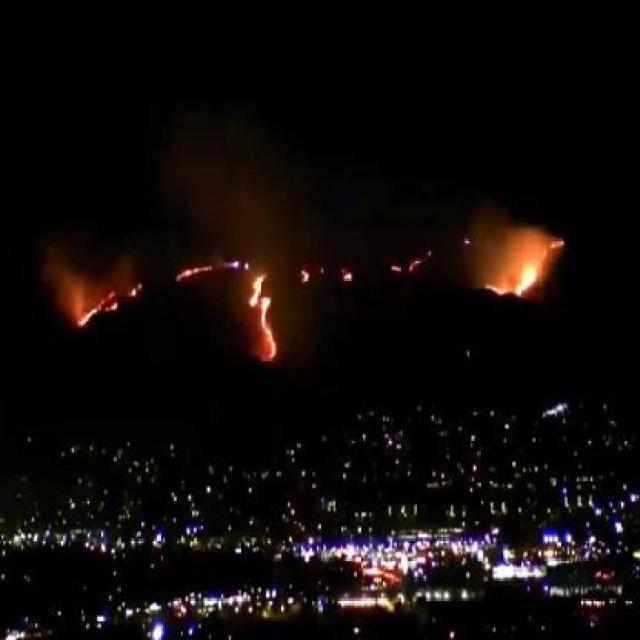Fire: (246, 273, 279, 364), (75, 287, 118, 327), (514, 258, 540, 297), (173, 266, 212, 282), (402, 255, 427, 278), (486, 278, 512, 298), (129, 278, 145, 297), (342, 270, 352, 282), (302, 269, 310, 283)
